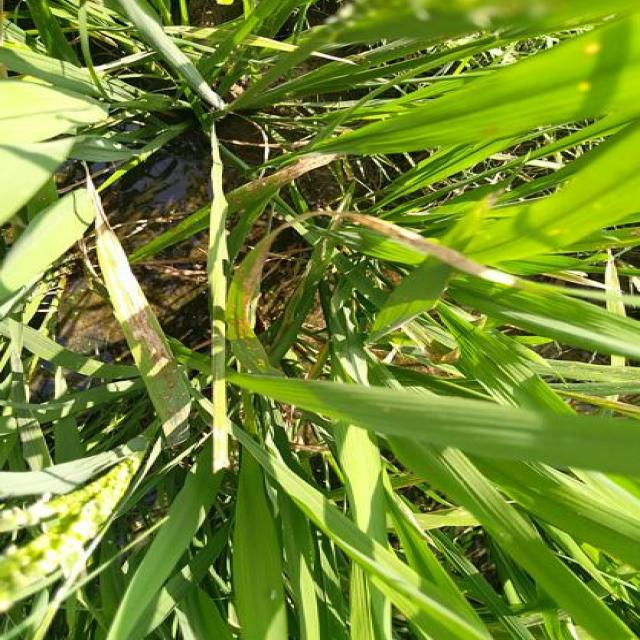Leaf Streak: (240, 209, 534, 350), (86, 175, 193, 432), (225, 154, 338, 209)
